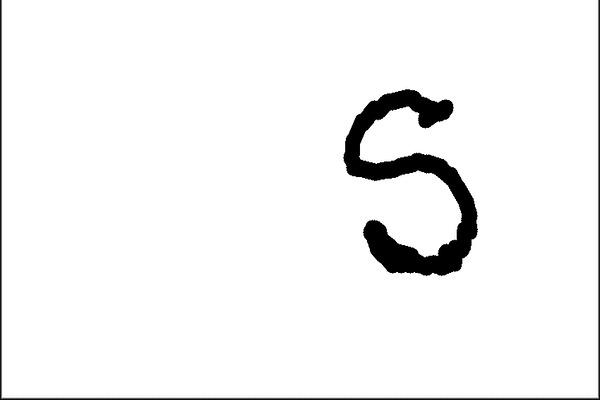S: (336, 83, 493, 289)
